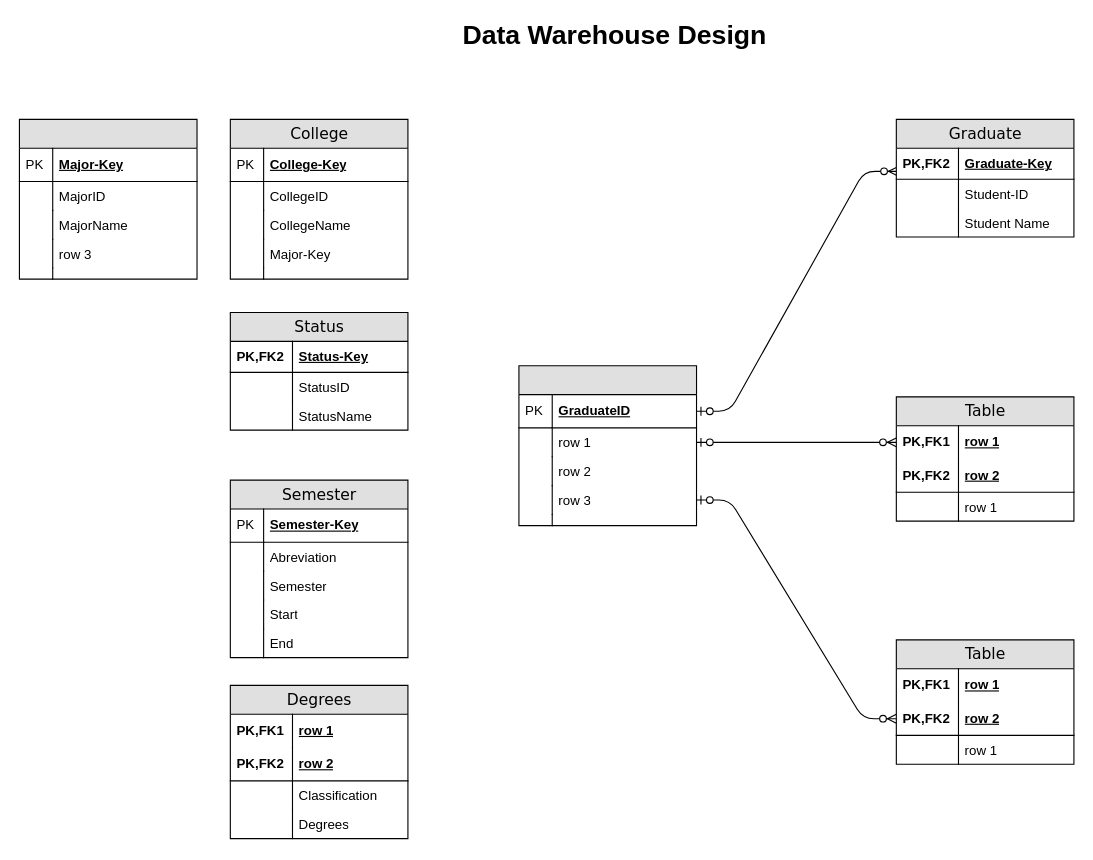
The diagram is 1093 pixels wide and 860 high, and some of its shapes have lost their labels. Each missing label, with the box of its shape:
Graduates: (518, 365, 697, 526)
Majors: (18, 118, 197, 279)
